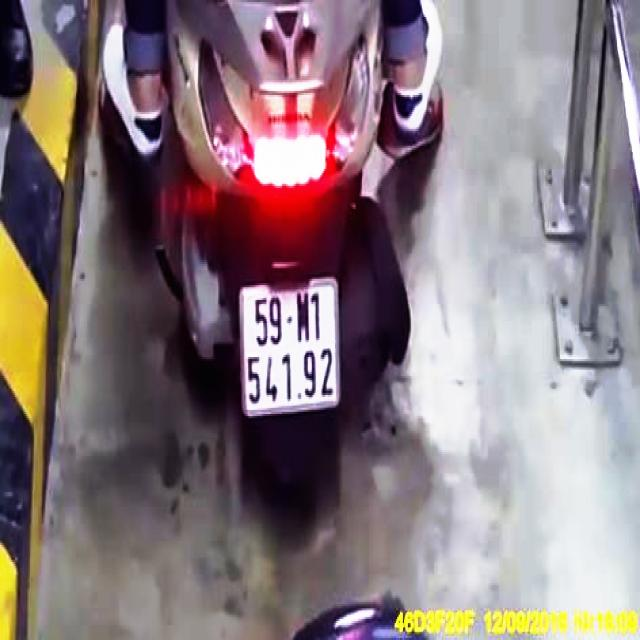license_plate: (242, 280, 340, 415)
